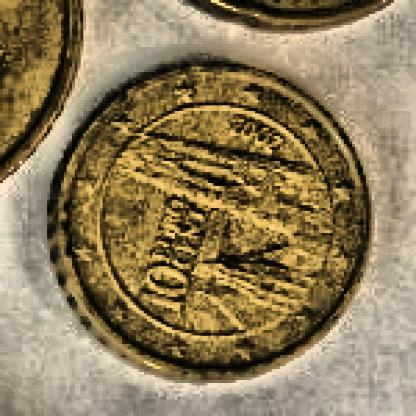coin: (50, 58, 372, 378)
